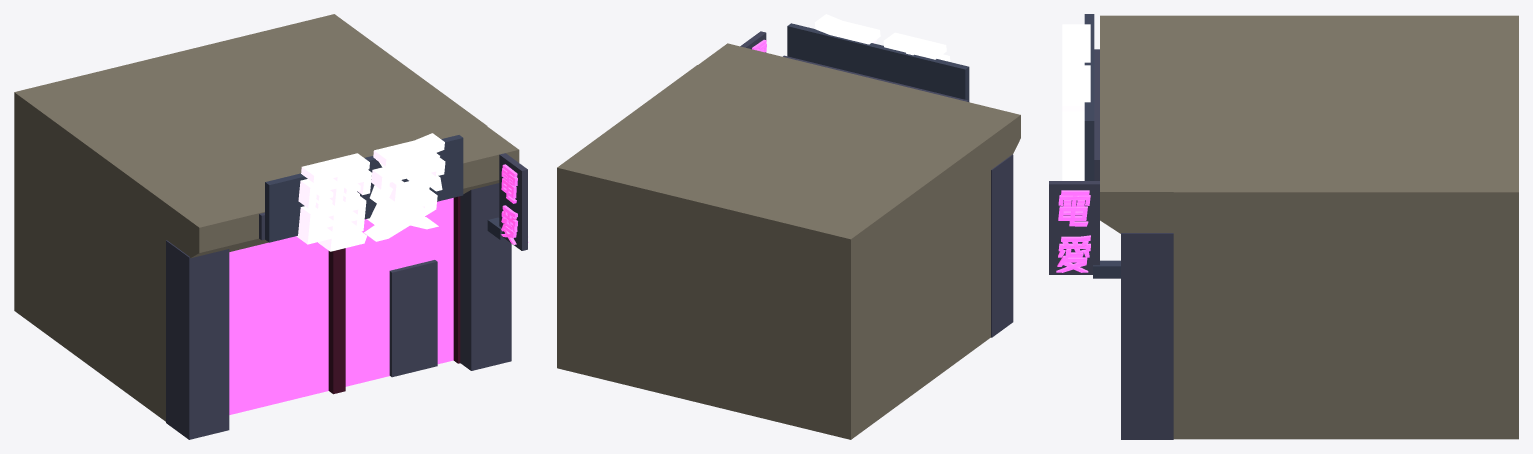
The picture shows the model from 3 angles, left to right: view 1: azimuth 30°, elevation 25°; view 2: azimuth 150°, elevation 25°; view 3: azimuth 270°, elevation 25°; orthographic projection. The views are drawn at different scales.
Parts seen in each view (by area): view 1: Cube.028, Cube.002, Text.002, Cube.007, Cube, Cube.001, Cube.006, Cube.011, Cube.005, Cube.008, Cube.004, Text.001; view 2: Cube.028, Cube.001, Cube.011, Cube.007, Text.002; view 3: Cube.028, Cube.001, Cube, Text.002, Cube.008, Text, Cube.011, Cube.010, Cube.009.
Part boxes in pixels (x1,y1,x2,y2): Cube.028: [14, 14, 486, 421]; Cube.002: [229, 198, 453, 414]; Text.002: [296, 133, 445, 251]; Cube.007: [166, 240, 229, 439]; Cube: [460, 183, 511, 370]; Cube.001: [167, 126, 519, 258]; Cube.006: [389, 260, 437, 377]; Cube.011: [265, 135, 463, 242]; Cube.005: [328, 248, 345, 394]; Cube.008: [499, 153, 527, 250]; Cube.004: [453, 196, 460, 363]; Text.001: [501, 164, 517, 244]; Cube.028: [557, 65, 990, 439]; Cube.001: [698, 43, 1020, 169]; Cube.011: [787, 23, 969, 101]; Cube.007: [991, 154, 1013, 337]; Text.002: [814, 14, 950, 61]; Cube.028: [1173, 15, 1518, 439]; Cube.001: [1100, 15, 1173, 233]; Cube: [1121, 233, 1173, 439]; Text.002: [1062, 24, 1090, 180]; Cube.008: [1049, 181, 1099, 274]; Text: [1056, 190, 1090, 272]; Cube.011: [1084, 14, 1094, 180]; Cube.010: [1094, 49, 1099, 180]; Cube.009: [1093, 260, 1120, 278].
Size of the model in its own units: 12.49 by 9.66 by 13.95.
